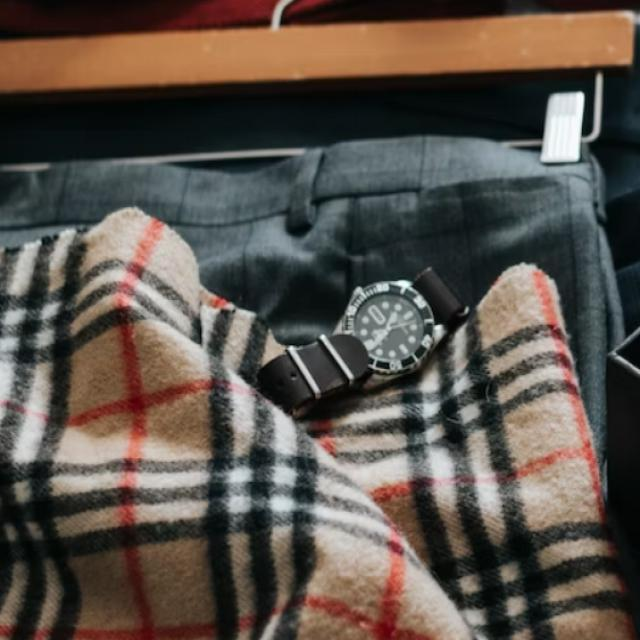Watch: (262, 268, 472, 432)
